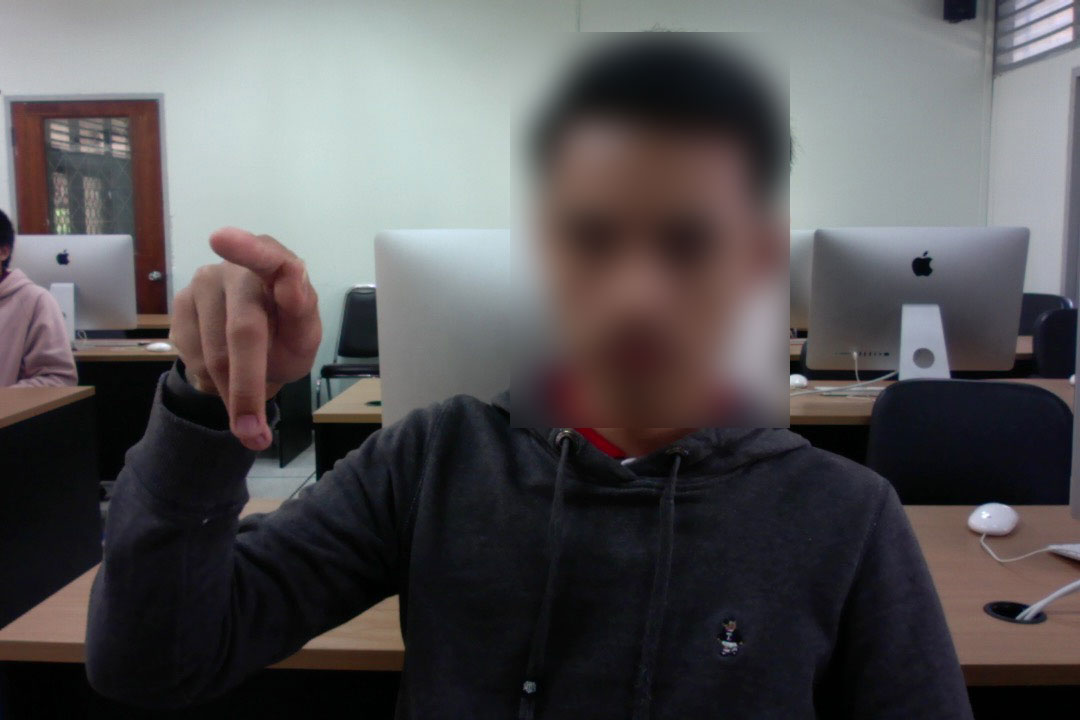por: (165, 217, 323, 459)
